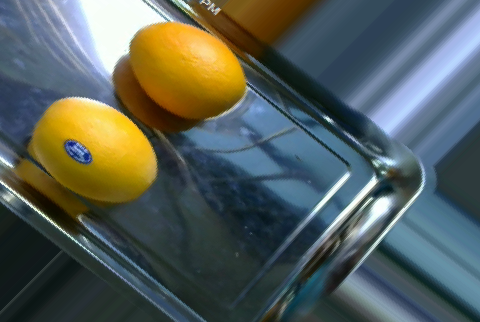Orange: (32, 94, 157, 201), (129, 20, 246, 118)
